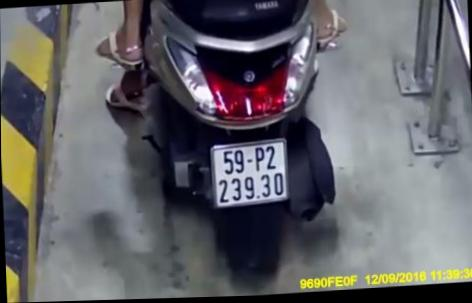LP: (209, 138, 290, 211)
